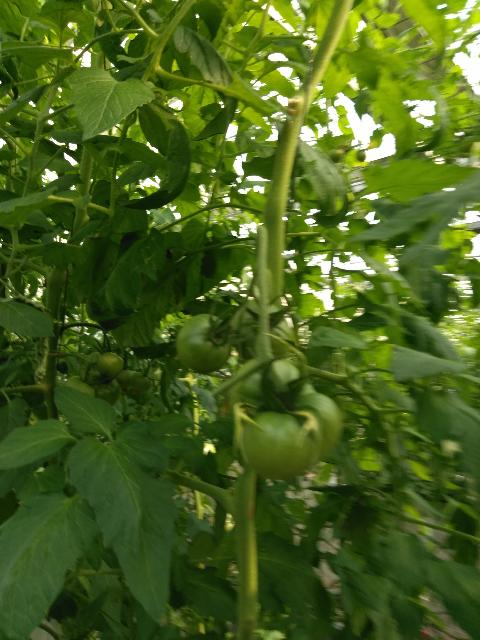b_green: (228, 356, 345, 481), (229, 299, 291, 360), (177, 314, 232, 373)
